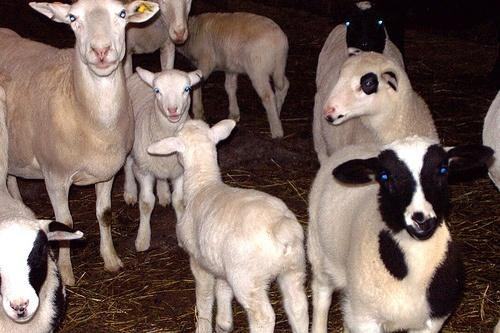sheep: (1, 1, 160, 287), (309, 138, 496, 333), (146, 120, 309, 333), (310, 50, 442, 165), (174, 12, 291, 141), (125, 67, 204, 252), (4, 199, 85, 333), (126, 2, 193, 71)
